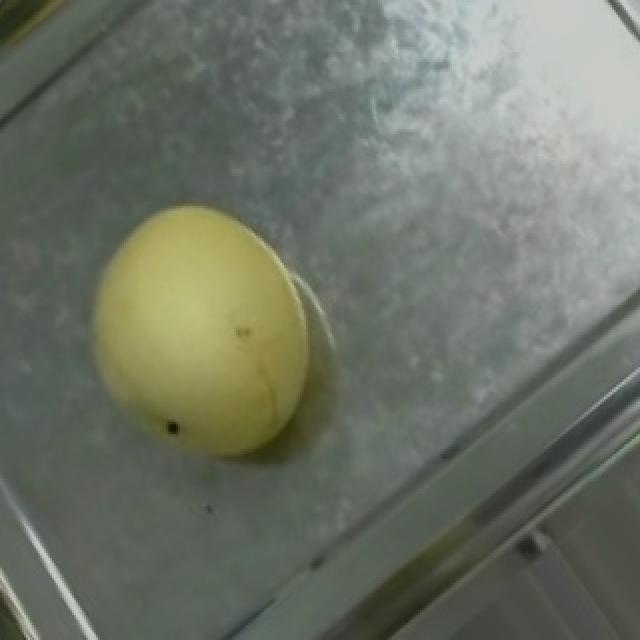Fruit: (46, 166, 366, 506)
